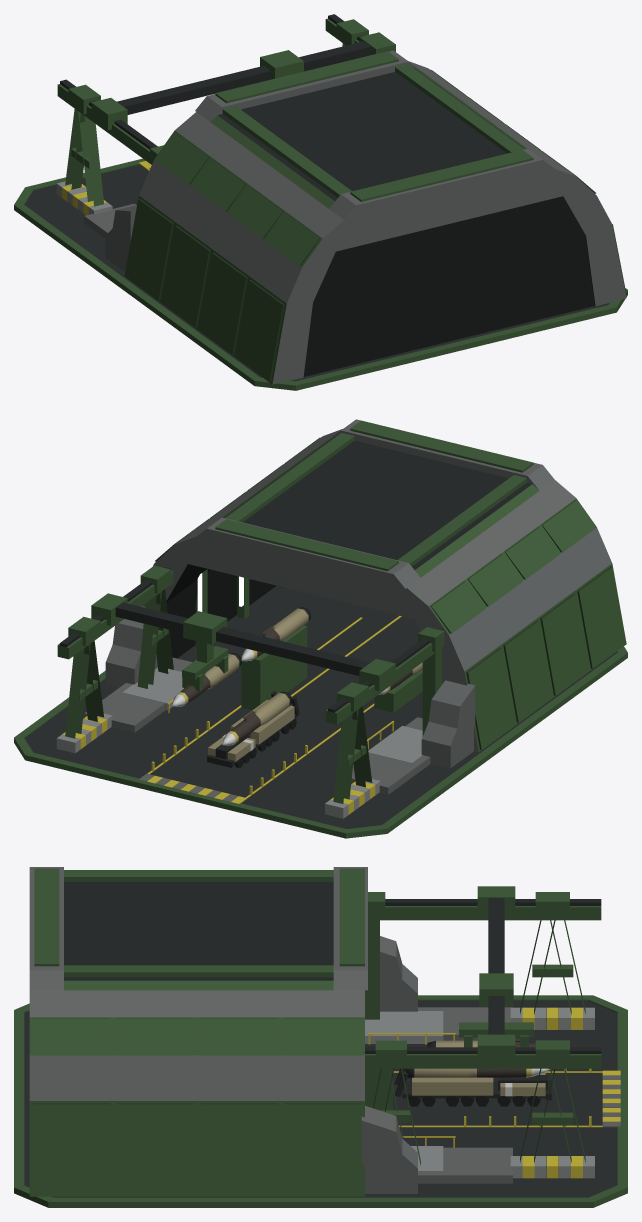
Rendered from Missile Foundry.fbx.
The picture shows the model from 3 angles, top to bottom: view 1: azimuth 30°, elevation 25°; view 2: azimuth 150°, elevation 25°; view 3: azimuth 270°, elevation 25°; orthographic projection. The views are drawn at different scales.
Visible parts, largest first — view 1: Factory_Hangar_Structure, Factory_Base_Platform, Factory_Gantry_Crane; view 2: Factory_Hangar_Structure, Factory_Base_Platform, Factory_Gantry_Crane, Factory_Interior_Racks, TEL_Truck_Body_UltraLow, ICBM_On_TEL_Truck, ICBM_Rack_Interior_1, ICBM_Crane_Suspended; view 3: Factory_Hangar_Structure, Factory_Base_Platform, Factory_Gantry_Crane, TEL_Truck_Body_UltraLow, ICBM_On_TEL_Truck, Factory_Interior_Racks.
Boxes of the visible parts, x1,y1,x2,y2 form: Factory_Hangar_Structure: (105,50,626,384); Factory_Base_Platform: (14,158,627,390); Factory_Gantry_Crane: (56,14,395,215); Factory_Hangar_Structure: (105,419,626,768); Factory_Base_Platform: (14,586,627,838); Factory_Gantry_Crane: (56,565,444,818); Factory_Interior_Racks: (241,625,422,712); TEL_Truck_Body_UltraLow: (207,691,299,767); ICBM_On_TEL_Truck: (222,691,291,745); ICBM_Rack_Interior_1: (241,607,310,661); ICBM_Crane_Suspended: (172,653,241,706); Factory_Hangar_Structure: (29,867,417,1196); Factory_Base_Platform: (14,995,627,1207); Factory_Gantry_Crane: (365,886,601,1178); TEL_Truck_Body_UltraLow: (395,1068,551,1100); ICBM_On_TEL_Truck: (405,1068,549,1079); Factory_Interior_Racks: (365,1068,392,1110).
Bounding box in the file's own units: 3120 × 1327 × 3920.
